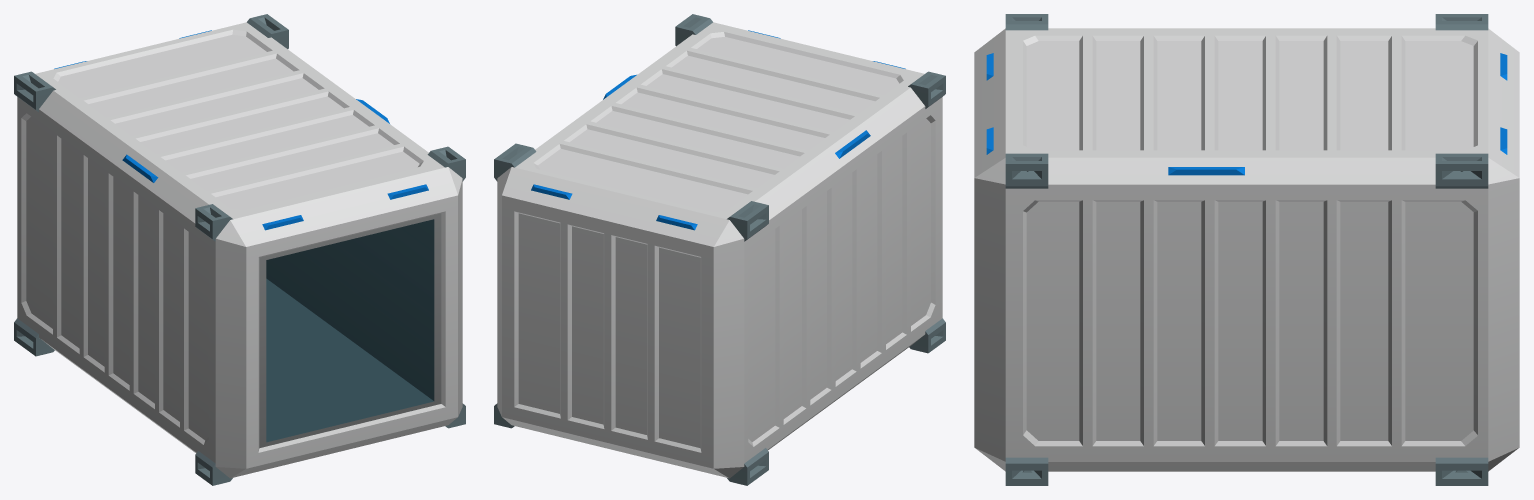
Rendered from Container_type_B_008.fbx.
3 renders of one model, left to right at view 1: azimuth 30°, elevation 25°; view 2: azimuth 150°, elevation 25°; view 3: azimuth 270°, elevation 25°, orthographic. The views are drawn at different scales.
Visible parts, largest first — view 1: Container_type_B_008; view 2: Container_type_B_008; view 3: Container_type_B_008.
Part boxes in pixels (x1=…): Container_type_B_008: x1=14, y1=14, x2=465, y2=485; Container_type_B_008: x1=494, y1=14, x2=945, y2=485; Container_type_B_008: x1=974, y1=14, x2=1519, y2=485.
Bounding box in the file's own units: 246 × 378 × 246.
